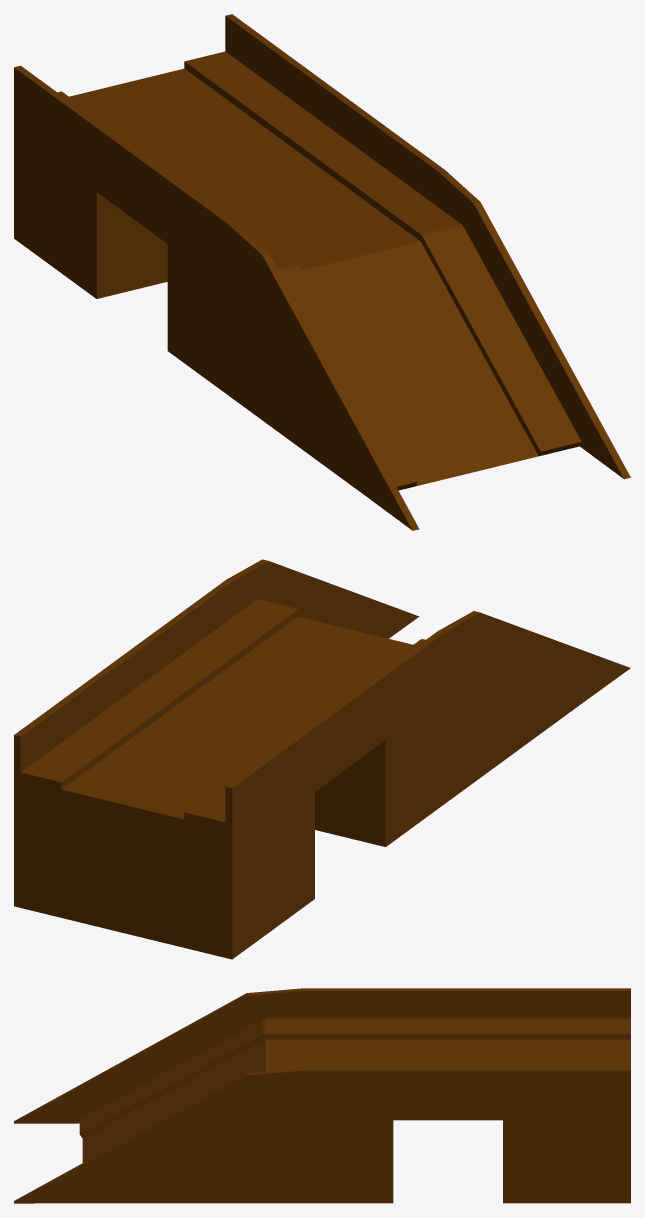
File: WoonplaatsBridge.fbx
3 renders of one model, top to bottom at view 1: azimuth 30°, elevation 25°; view 2: azimuth 150°, elevation 25°; view 3: azimuth 270°, elevation 25°, orthographic. The views are drawn at different scales.
Parts seen in each view (by area): view 1: Cube, Cube_2, Cube_1; view 2: Cube, Cube_2, Cube_1; view 3: Cube, Cube_2.
Boxes of the visible parts, x1,y1,x2,y2 form: Cube: [14, 14, 479, 410]; Cube_2: [250, 202, 630, 530]; Cube_1: [96, 192, 167, 298]; Cube: [14, 559, 480, 959]; Cube_2: [259, 561, 630, 786]; Cube_1: [315, 740, 385, 846]; Cube: [246, 988, 630, 1203]; Cube_2: [14, 993, 265, 1203].
Size of the model in its own units: 1600 by 1203 by 5064.
